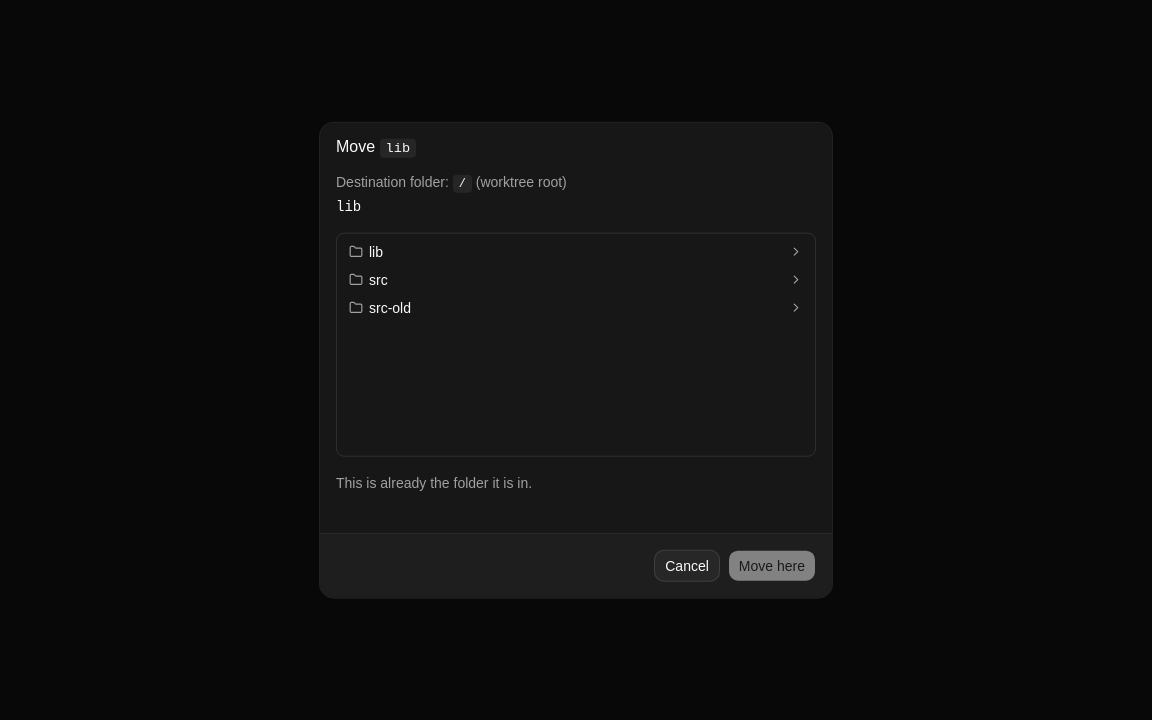
Test: MoveEntryDialog › refuses moving a folder inside itself
The image size is (1152, 720).
Step 1. Click the button "lib" → (356, 251), box [341, 237, 811, 265]
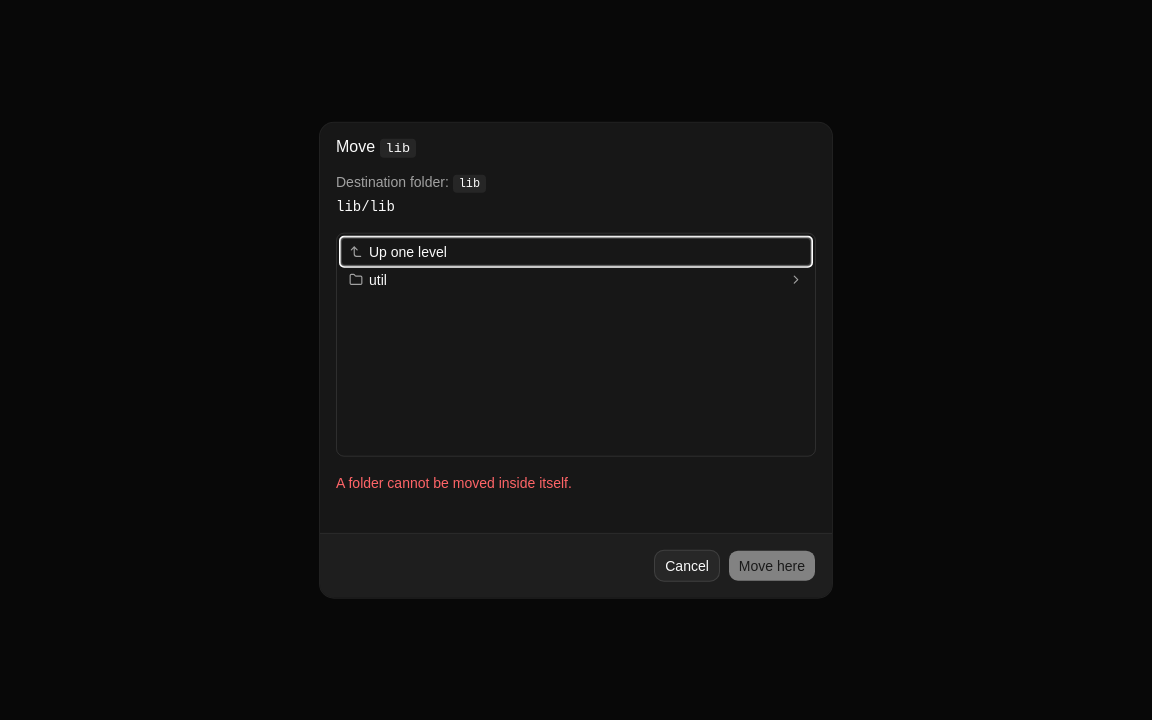
Check: the button "Move here" is disabled, box [728, 549, 816, 581]
Check: the text "A folder cannot be moved inside itself." is shown, box [336, 474, 572, 490]
